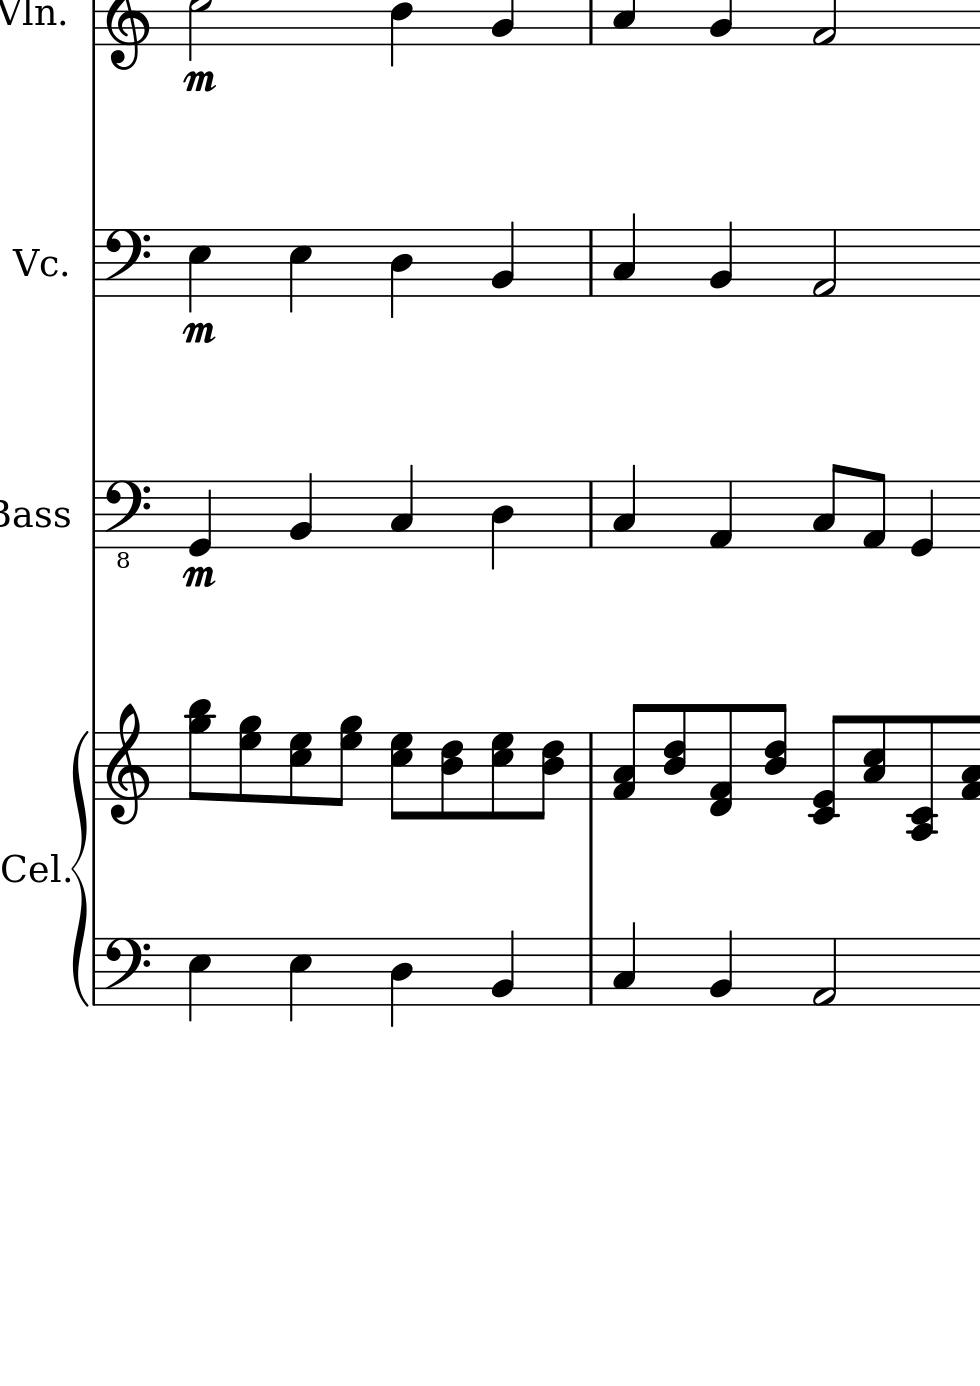2_1: (811, 227, 838, 299), (811, 936, 838, 1008)
4_0: (908, 478, 935, 559), (186, 478, 212, 559)
4_1: (707, 479, 734, 551)
4_2: (490, 220, 517, 299), (490, 928, 517, 1007), (708, 928, 735, 1007), (288, 470, 314, 550), (708, 220, 734, 298)
4_3: (611, 211, 637, 298), (611, 463, 637, 549), (611, 922, 637, 1007), (389, 463, 415, 549)
4_4: (388, 228, 414, 319), (489, 479, 514, 571), (388, 937, 414, 1027)
4_5: (186, 936, 213, 1023), (186, 227, 212, 316), (287, 936, 313, 1024), (287, 228, 312, 317)
8_-1_1: (708, 702, 735, 817)
8_-2_0: (806, 712, 850, 825)
8_-4_-2: (905, 713, 941, 841)
8_1: (860, 469, 888, 551)
8_1_3: (612, 701, 647, 802)
8_3: (811, 462, 845, 550)
8_3_5: (861, 713, 887, 802)
8_4_6: (661, 702, 688, 804), (536, 731, 565, 823), (763, 702, 788, 803), (440, 730, 465, 821)
8_5_7: (387, 730, 415, 821), (489, 731, 517, 821), (288, 729, 313, 806)
8_7_9: (332, 715, 362, 806), (237, 714, 261, 803)
8_9_11: (183, 697, 217, 801)
Bass: (1, 494, 73, 536)
Brace: (70, 729, 90, 1006)
Cel: (3, 844, 62, 885)
Fclef: (102, 227, 152, 299), (102, 936, 151, 1008)
Gclef: (104, 702, 151, 826)
Lower_Fclef: (102, 478, 153, 571)
Single_barline: (582, 733, 601, 799), (86, 229, 102, 297), (583, 938, 599, 1005), (583, 230, 599, 296), (86, 481, 102, 547), (583, 481, 599, 547), (88, 731, 103, 801), (88, 938, 101, 1005)
Vc: (8, 242, 62, 287)
Vln: (1, 1, 58, 31)
m: (179, 319, 217, 349), (181, 68, 218, 95)
mp: (179, 562, 216, 591)
